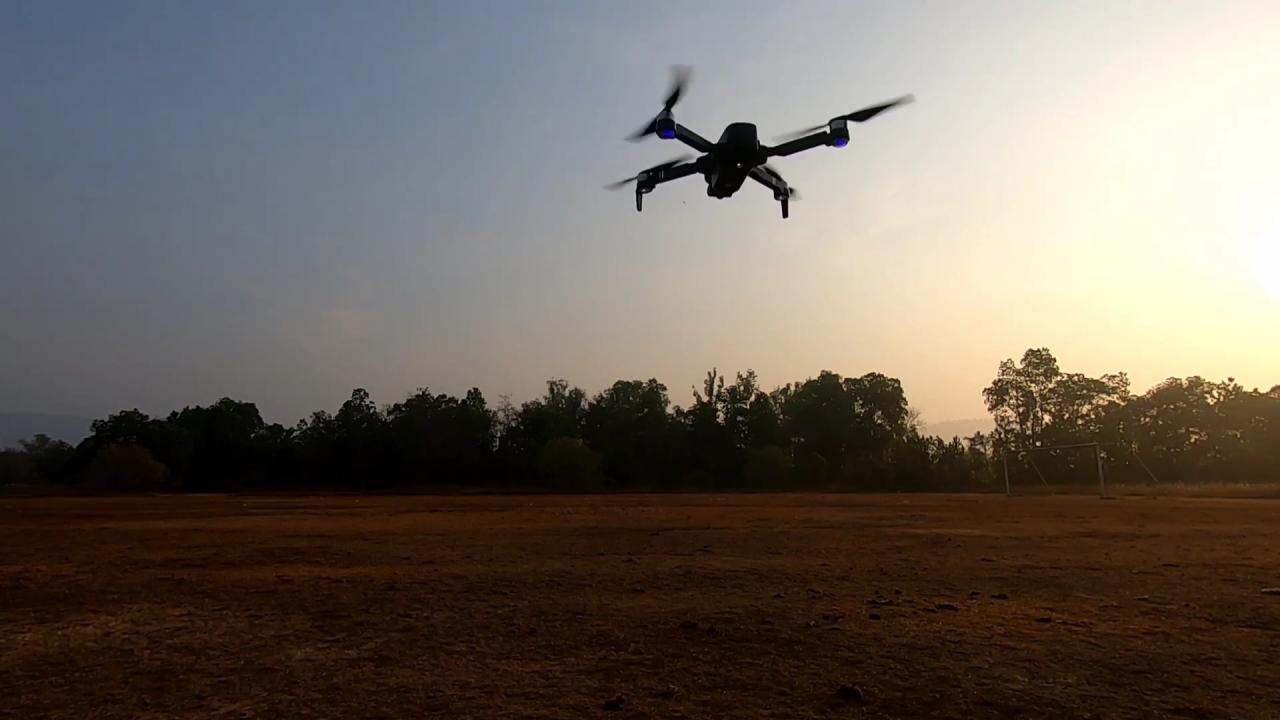Drone: (592, 53, 924, 229)
